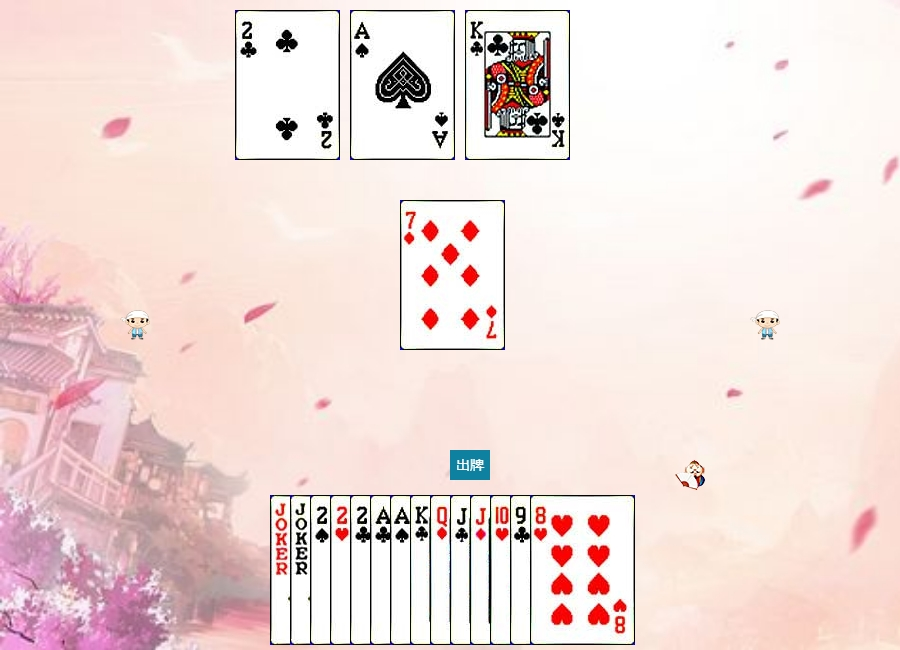10~3: (490, 495, 595, 645)
11~1: (470, 495, 575, 645)
11~2: (450, 495, 555, 645)
12~1: (430, 495, 535, 645)
13~2: (465, 10, 570, 160), (410, 495, 515, 645)
14~2: (370, 495, 475, 645)
14~4: (350, 10, 455, 160), (390, 495, 495, 645)
15~2: (235, 10, 340, 160), (350, 495, 455, 645)
15~3: (330, 495, 435, 645)
15~4: (310, 495, 415, 645)
17~3: (290, 495, 395, 645)
18~4: (270, 495, 375, 645)
7~1: (400, 200, 505, 350)
8~3: (530, 495, 635, 645)
9~2: (510, 495, 615, 645)
